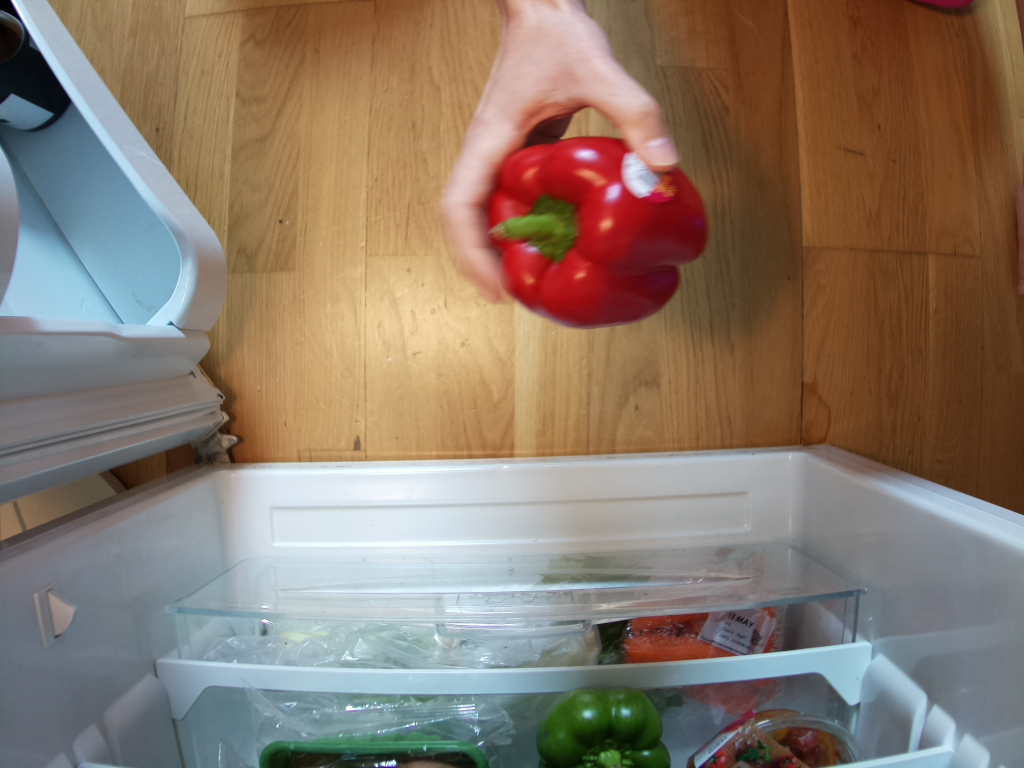pepper: (488, 135, 709, 331), (538, 685, 672, 768)
